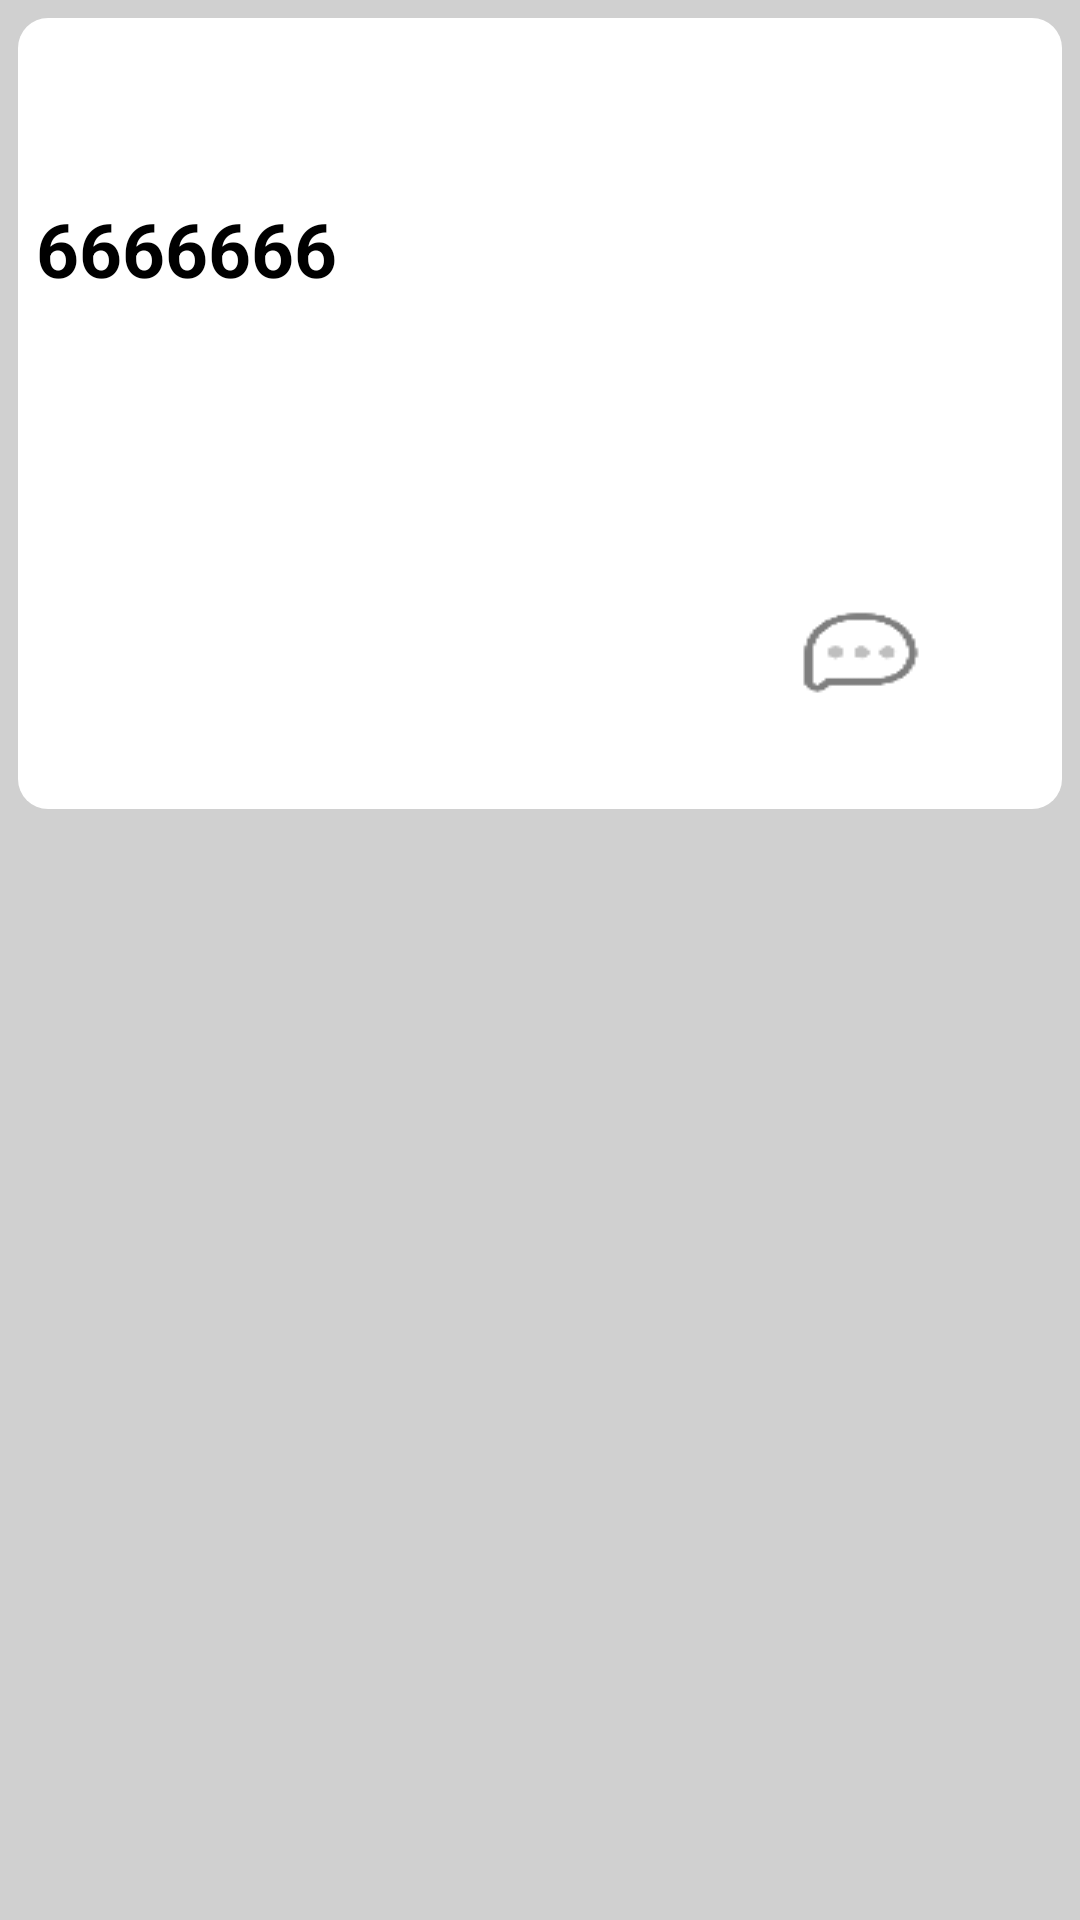

Named icons in this screenshot (1080 x 1920) and their centers, point (x, y):
comment: point (861, 652)
